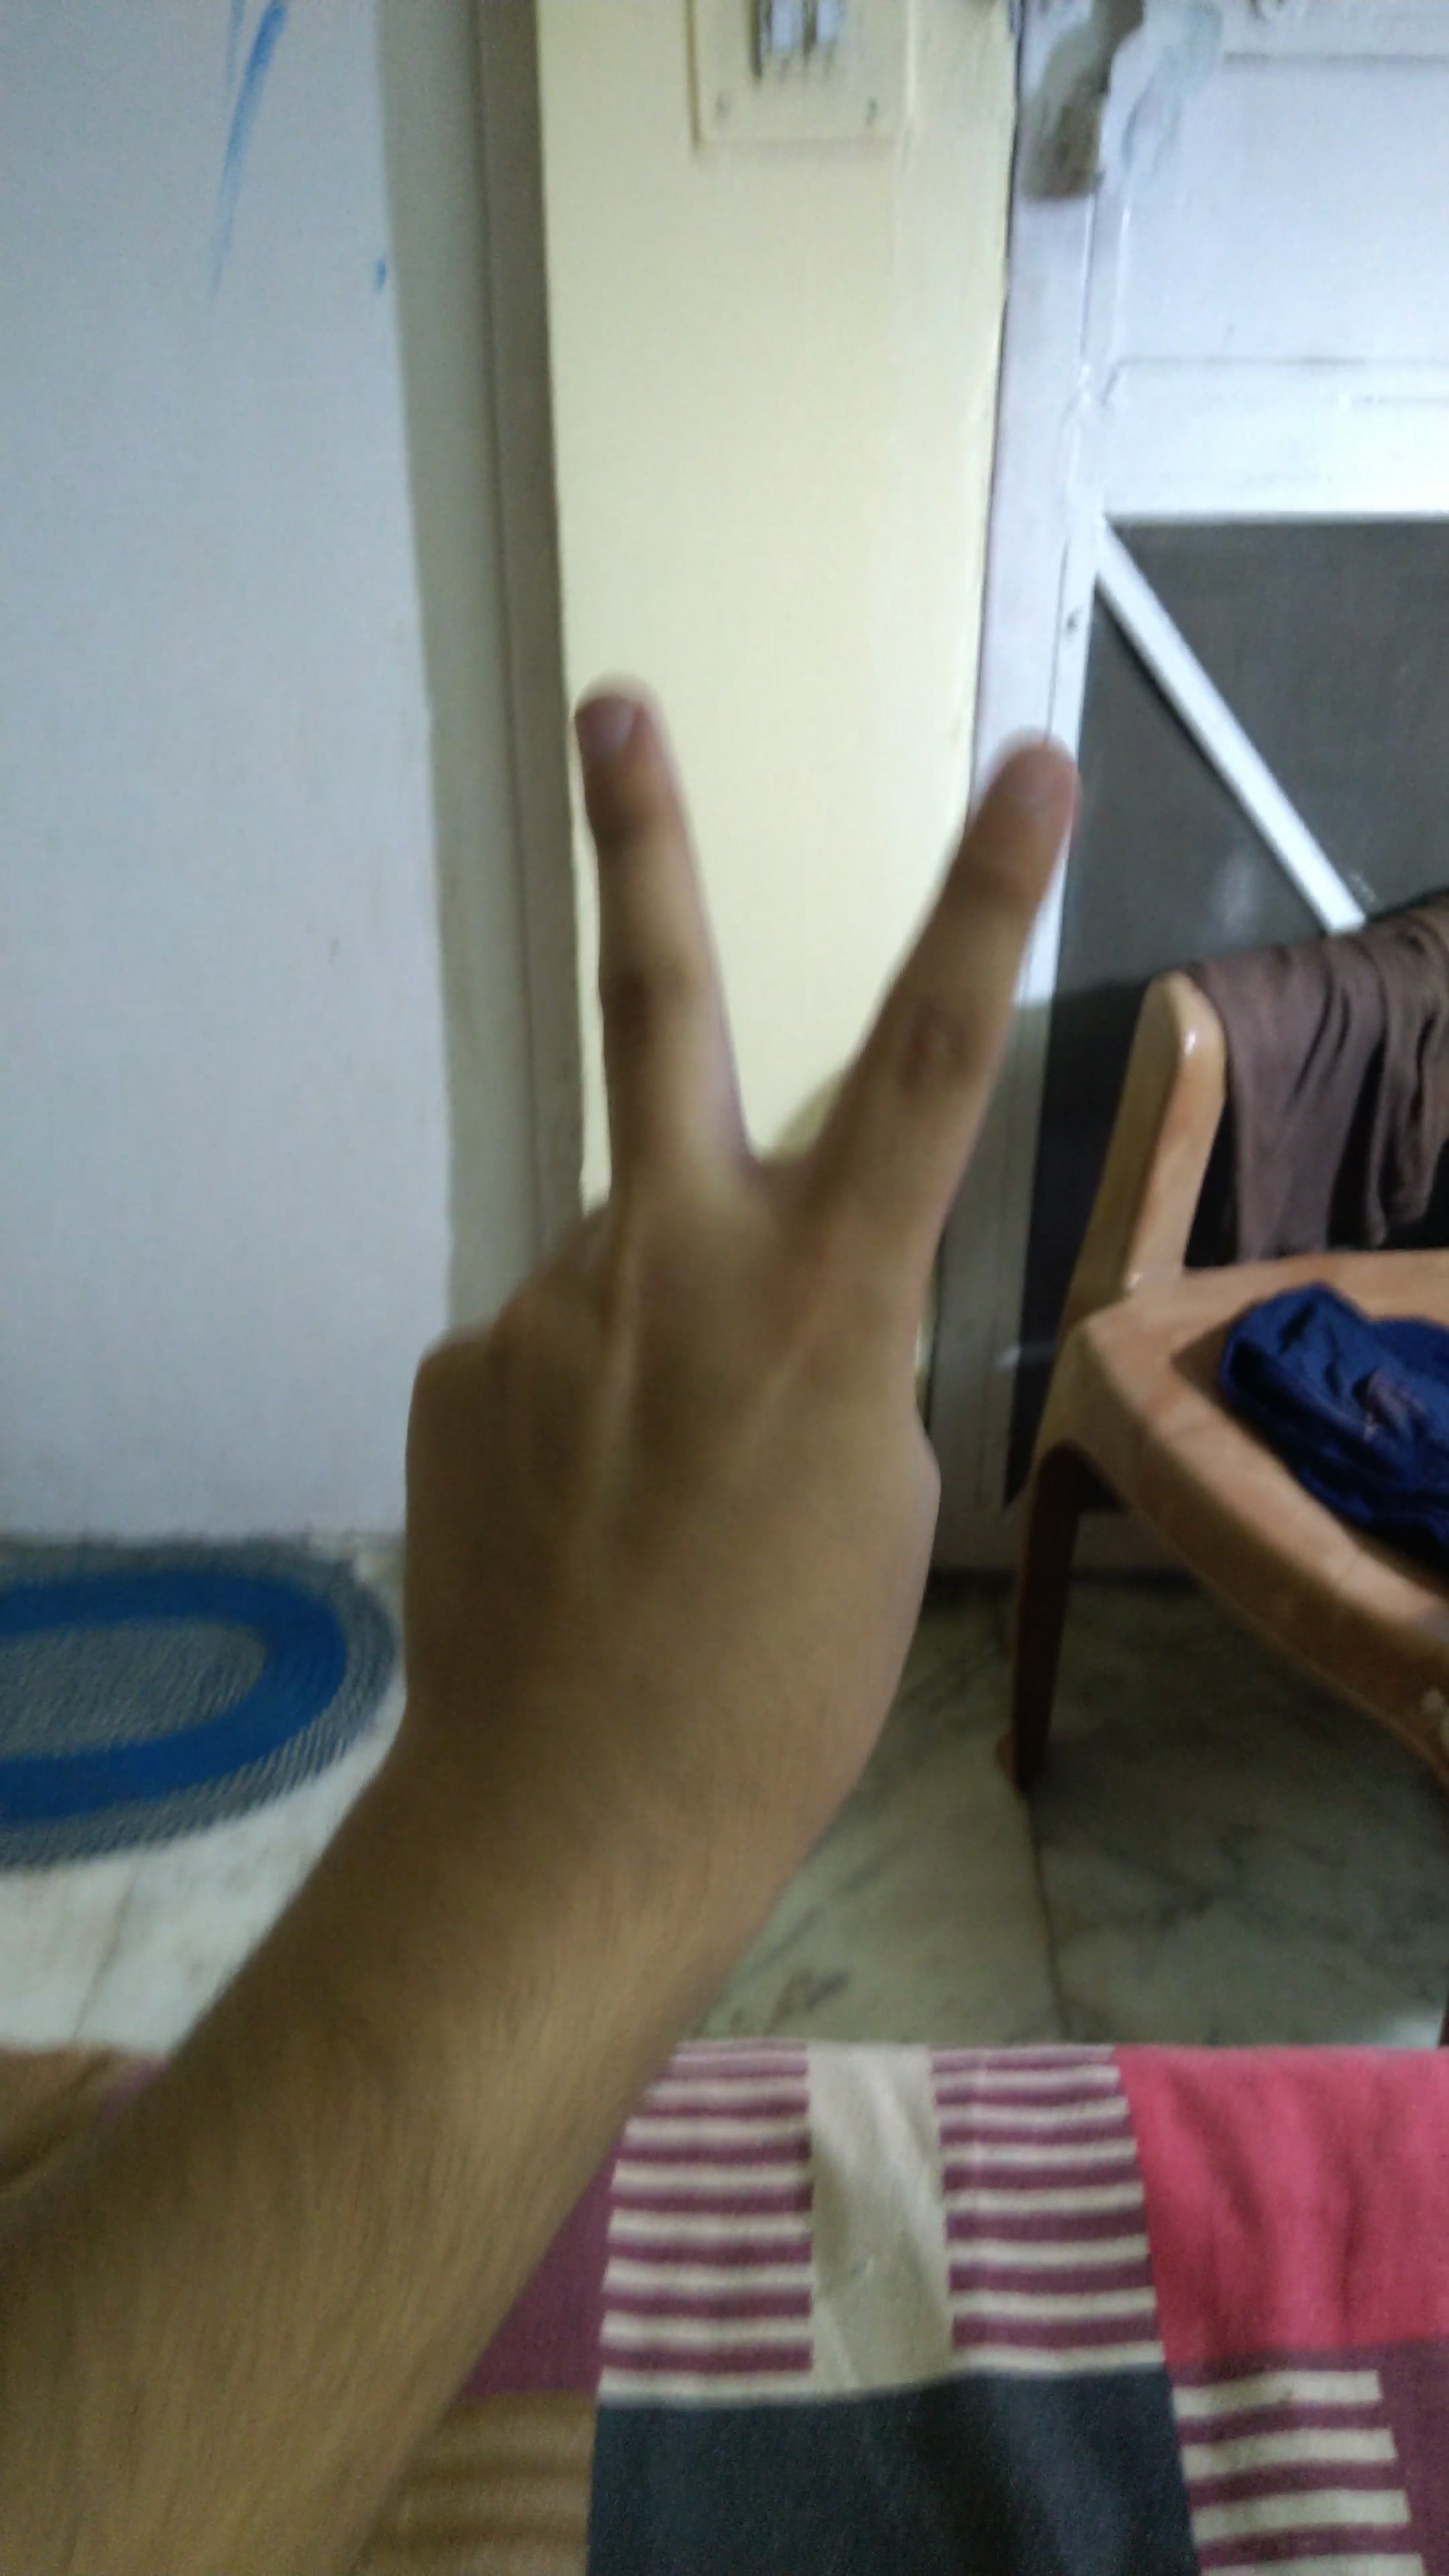hand: (235, 658, 1145, 1930)
